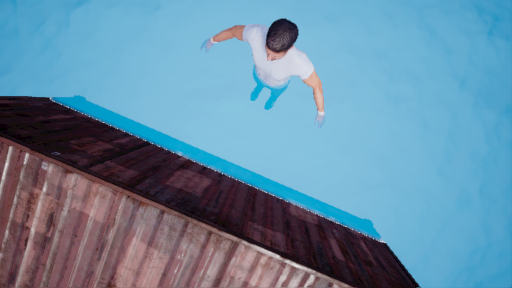person: (199, 17, 345, 126)
